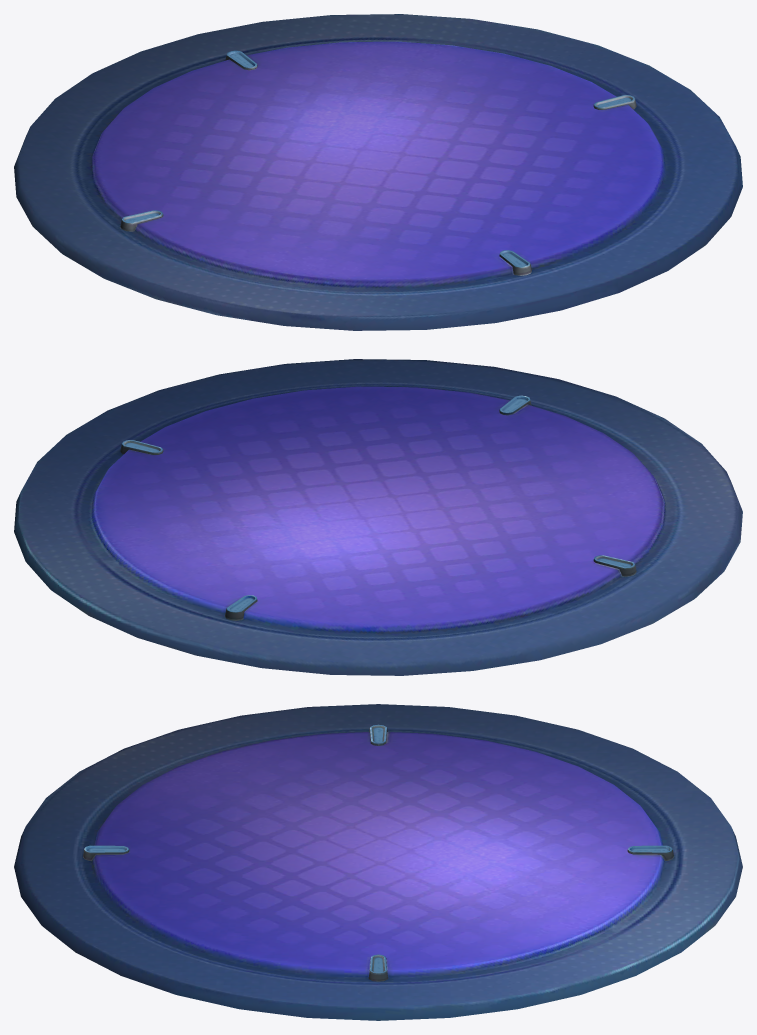
File: pref_fx_WSJ_NeutralScoreArea03_purple_floor_lv1.fbx
3 renders of one model, top to bottom at view 1: azimuth 30°, elevation 25°; view 2: azimuth 150°, elevation 25°; view 3: azimuth 270°, elevation 25°, orthographic.
Parts seen in each view (by area): view 1: sm_prop_platform06a_lv1; view 2: sm_prop_platform06a_lv1; view 3: sm_prop_platform06a_lv1.
Boxes of the visible parts, x1=… form: sm_prop_platform06a_lv1: x1=14, y1=14, x2=742, y2=330; sm_prop_platform06a_lv1: x1=14, y1=359, x2=742, y2=675; sm_prop_platform06a_lv1: x1=14, y1=704, x2=742, y2=1020.
Bounding box in the file's own units: 7.46 × 0.2009 × 7.46.
